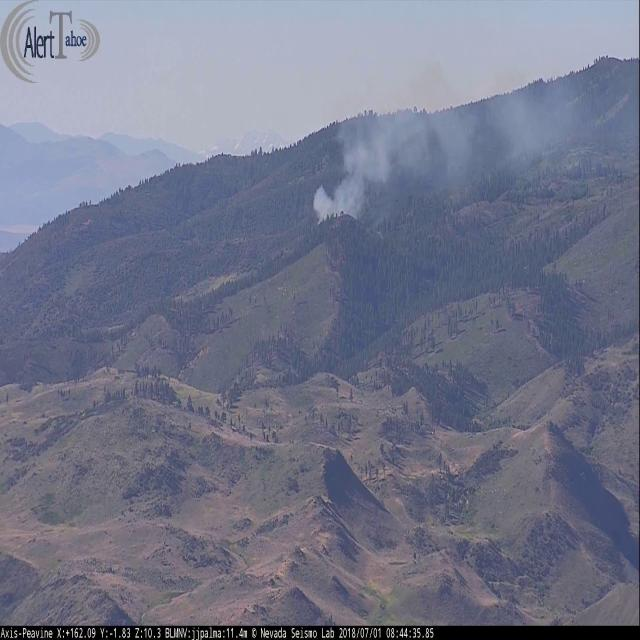smoke: (315, 20, 638, 231)
